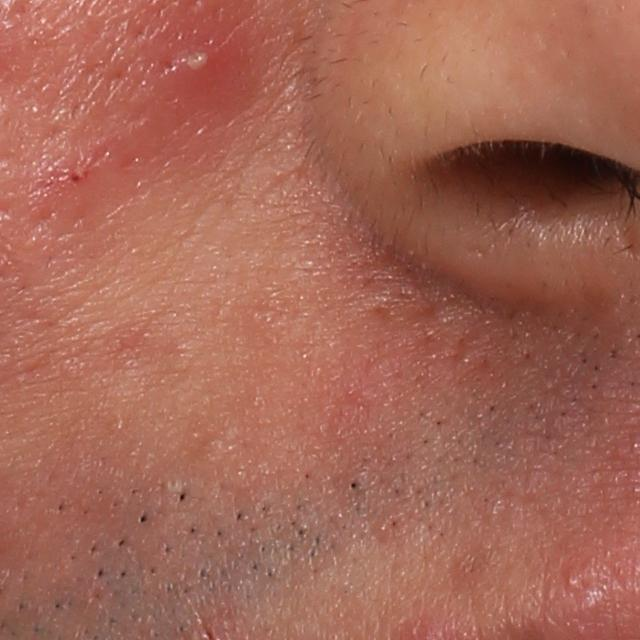pustule: (167, 41, 236, 96)
